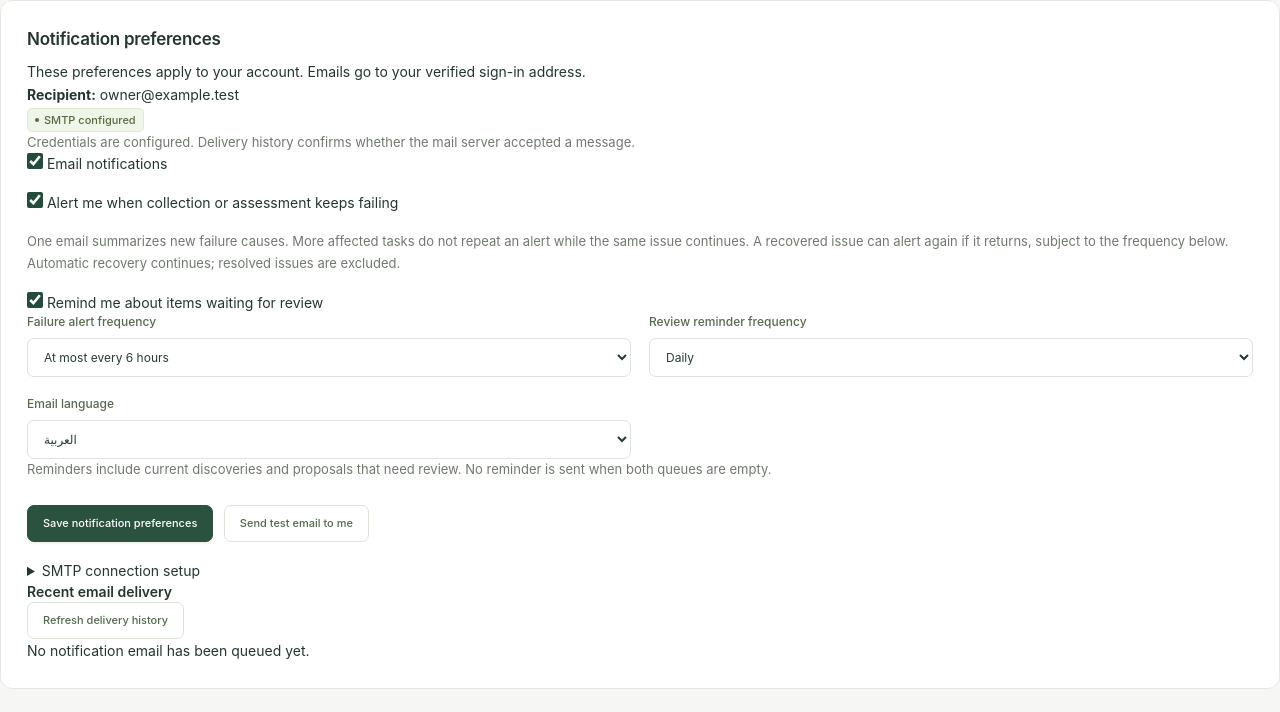
preserves user edits if preference saving fails
Expected: the text "owner@example.test" is shown, left=100, top=86, right=239, bottom=103
Select "Weekly" in the dropdown labelled "Review reminder frequency" at (951, 358), box left=649, top=338, right=1253, bottom=377
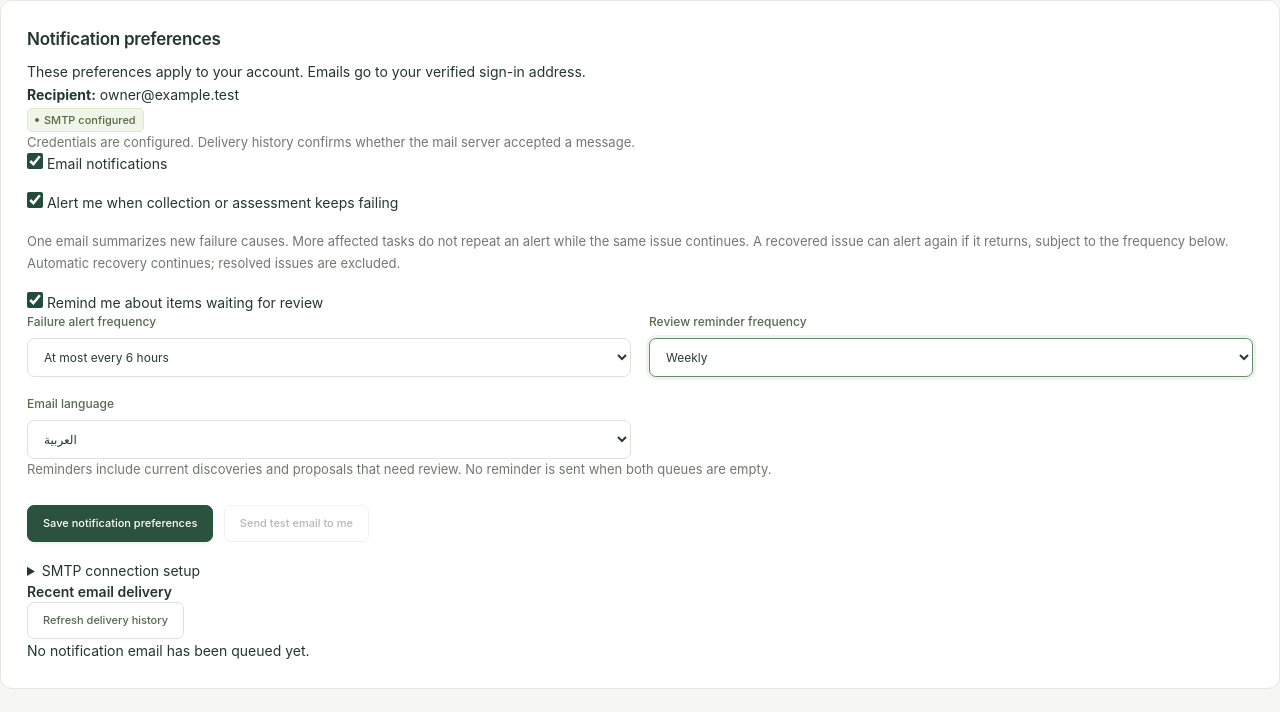
Click the button "Save notification preferences" at (120, 523), box left=27, top=505, right=213, bottom=542
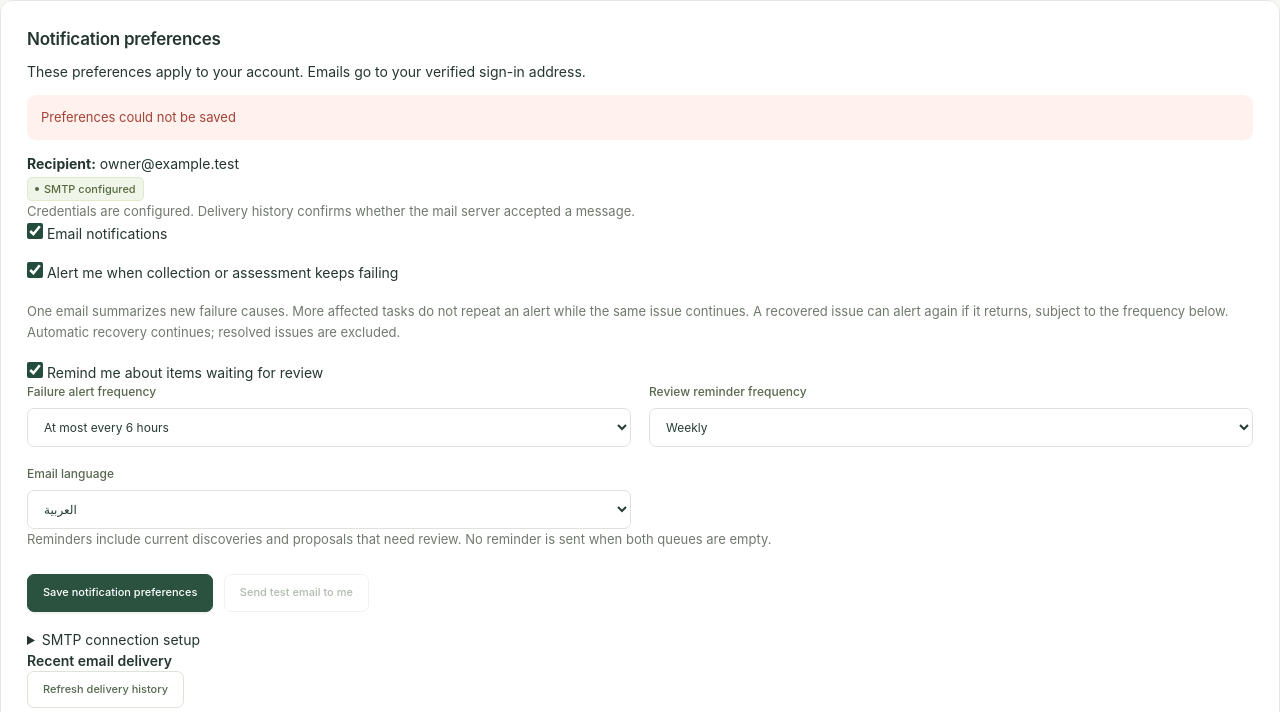
Expected: the message reads "Preferences could not be saved", left=41, top=109, right=236, bottom=125
